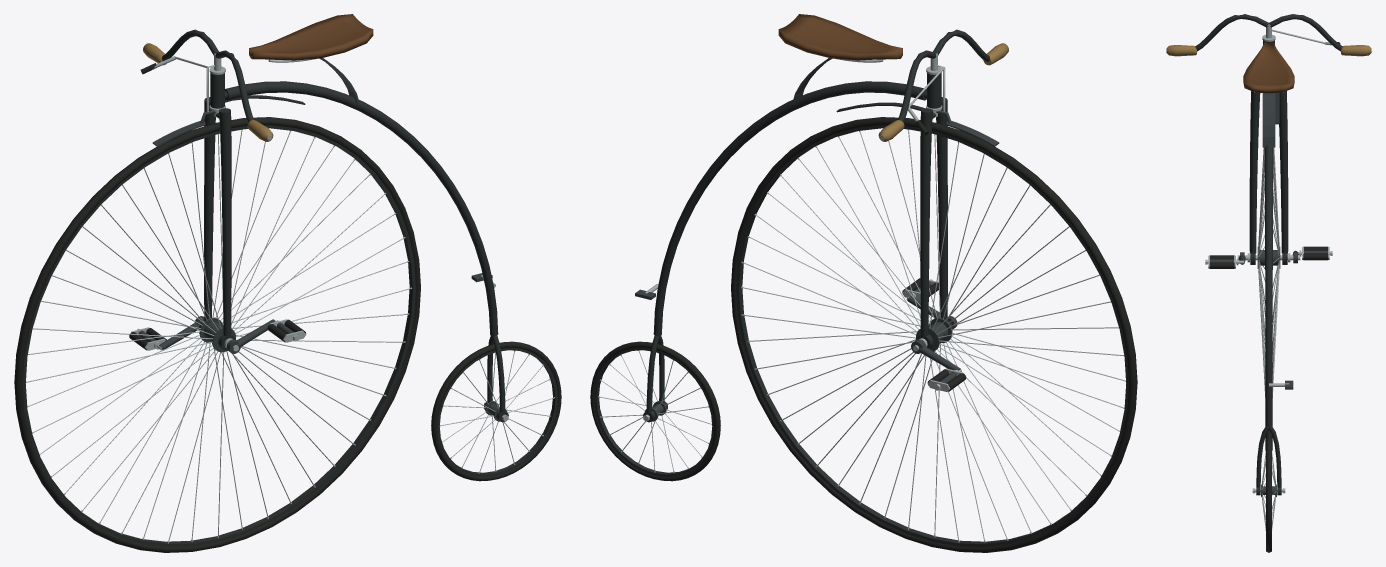
The model's file is NEW453_penny_farthing_LOD2.glb.
3 renders of one model, left to right at view 1: azimuth 30°, elevation 25°; view 2: azimuth 150°, elevation 25°; view 3: azimuth 270°, elevation 25°, orthographic. The views are drawn at different scales.
Visible parts, largest first — view 1: Front_solid_rubber_tyre, Front_rim_closed_channel, Single_curved_backbone, Leather_saddle_closed_underside, Front_fork_blade_-1, Rear_solid_rubber_tyre, Front_fork_blade_1, Rear_rim_closed_channel; view 2: Front_solid_rubber_tyre, Front_rim_closed_channel, Single_curved_backbone, Leather_saddle_closed_underside, Front_fork_blade_1, Rear_solid_rubber_tyre, Front_fork_blade_-1, Rear_rim_closed_channel; view 3: Single_curved_backbone, Leather_saddle_closed_underside, Front_fork_blade_-1, Front_fork_blade_1, Saddle_support_curved_leaf_spring, Rear_solid_rubber_tyre, Swept_handlebar_1, Swept_handlebar_-1, Turned_wood_grip_-1, Turned_wood_grip_1, Rear_fork_blade_-1, Rear_fork_blade_1.
Boxes of the visible parts, x1,y1,x2,y2 form: Front_solid_rubber_tyre: (14,117,420,552); Front_rim_closed_channel: (23,125,415,547); Single_curved_backbone: (225,81,498,336); Leather_saddle_closed_underside: (249,14,373,60); Front_fork_blade_-1: (219,108,231,337); Rear_solid_rubber_tyre: (431,341,561,481); Front_fork_blade_1: (204,97,215,321); Rear_rim_closed_channel: (437,347,557,476); Front_solid_rubber_tyre: (731,117,1137,552); Front_rim_closed_channel: (736,125,1128,547); Single_curved_backbone: (653,81,926,336); Leather_saddle_closed_underside: (778,14,902,60); Front_fork_blade_1: (920,108,932,337); Rear_solid_rubber_tyre: (590,341,720,481); Front_fork_blade_-1: (936,97,947,321); Rear_rim_closed_channel: (594,347,714,476); Single_curved_backbone: (1264,144,1273,426); Leather_saddle_closed_underside: (1243,42,1294,93); Front_fork_blade_-1: (1249,91,1260,253); Front_fork_blade_1: (1279,91,1288,253); Saddle_support_curved_leaf_spring: (1262,93,1275,147); Rear_solid_rubber_tyre: (1266,430,1271,552); Swept_handlebar_1: (1269,14,1342,51); Swept_handlebar_-1: (1195,14,1268,51); Turned_wood_grip_-1: (1166,45,1196,56); Turned_wood_grip_1: (1341,45,1371,56); Rear_fork_blade_-1: (1256,426,1268,487); Rear_fork_blade_1: (1269,426,1281,487).
Bounding box in the file's own units: 1.71 × 1.51 × 0.67.
